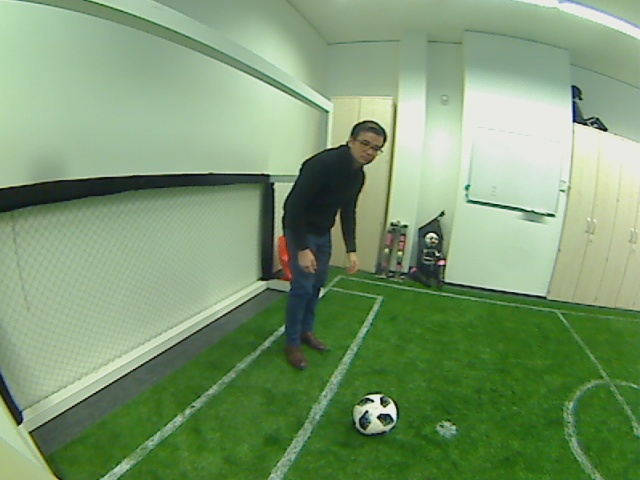ball: (350, 392, 398, 435)
